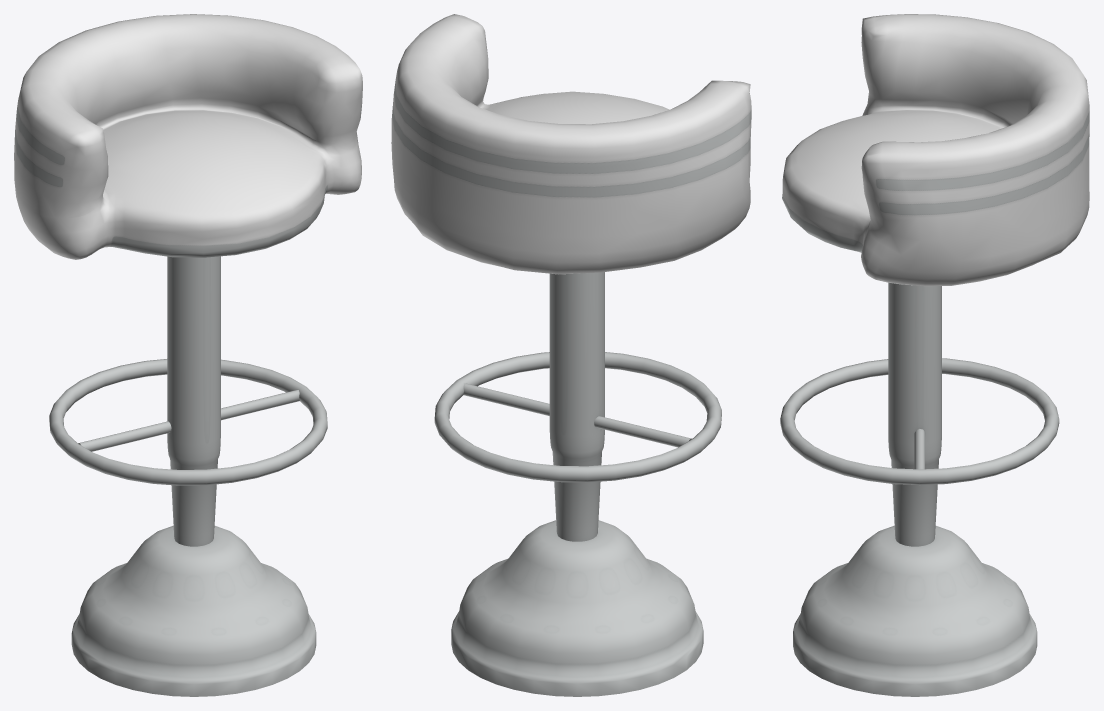
Rendered from BarChair01.FBX.
3 renders of one model, left to right at view 1: azimuth 30°, elevation 25°; view 2: azimuth 150°, elevation 25°; view 3: azimuth 270°, elevation 25°, orthographic. The views are drawn at different scales.
Parts seen in each view (by area): view 1: BarChair01; view 2: BarChair01; view 3: BarChair01.
Boxes of the visible parts, <box> form: BarChair01: <box>14,14,362,696</box>; BarChair01: <box>391,14,751,696</box>; BarChair01: <box>780,14,1089,696</box>.
Size of what is drawn, in the model's own units: 0.5659 by 0.9473 by 0.4712.
